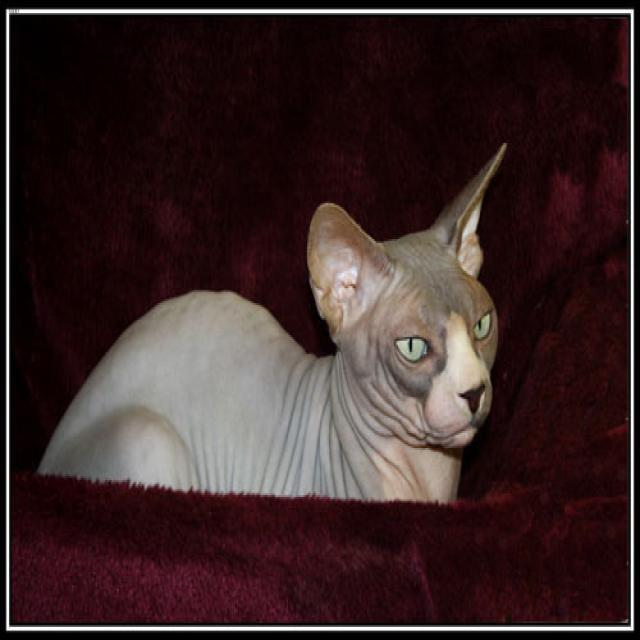Sphynx: (305, 140, 504, 445)
